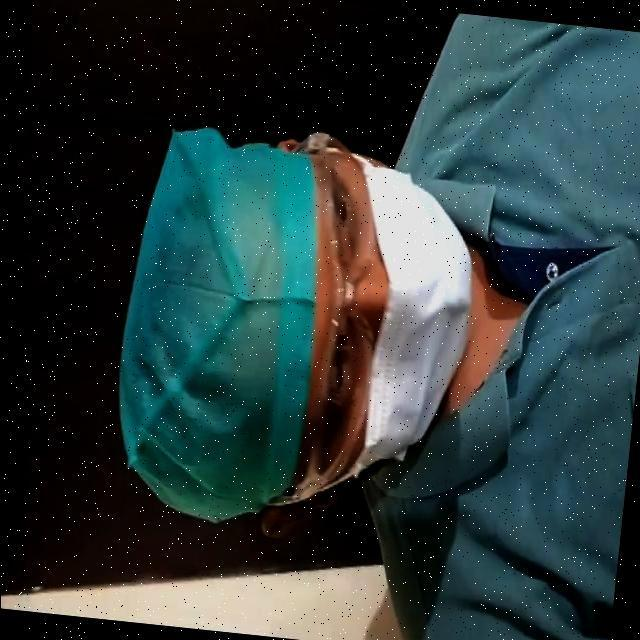gloves: (125, 114, 318, 518)
mask: (348, 152, 482, 452)
